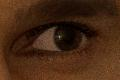eye: (54, 26, 81, 50)
